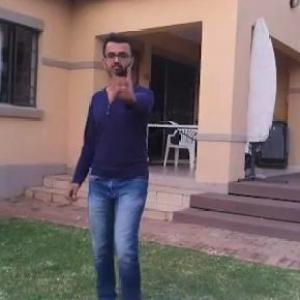takeoff-hand: (104, 60, 142, 107)
